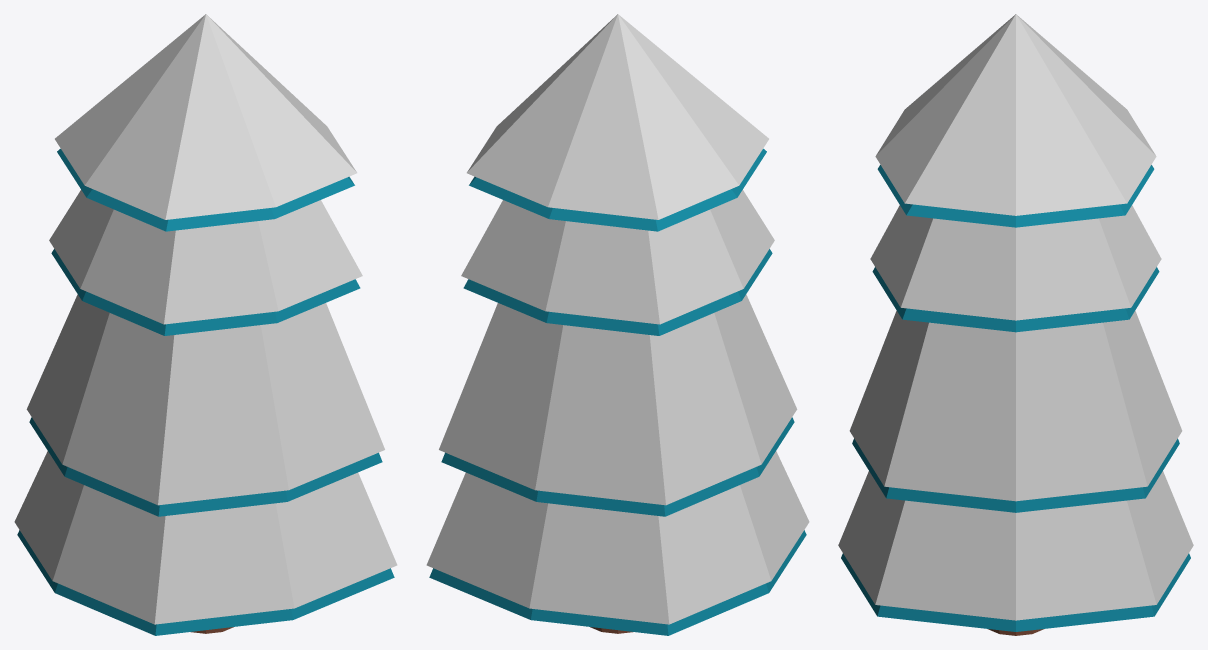
Rendered from Tree_22_winter_blue_mat.fbx.
3 views of the same model, side by side, from view 1: azimuth 30°, elevation 25°; view 2: azimuth 150°, elevation 25°; view 3: azimuth 270°, elevation 25° (orthographic).
Parts seen in each view (by area): view 1: Tree_22_winter_blue_mat; view 2: Tree_22_winter_blue_mat; view 3: Tree_22_winter_blue_mat.
Boxes of the visible parts, x1,y1,x2,y2 form: Tree_22_winter_blue_mat: (14, 14, 397, 635); Tree_22_winter_blue_mat: (426, 14, 809, 635); Tree_22_winter_blue_mat: (838, 14, 1193, 635).
Bounding box in the file's own units: 84.01 × 159 × 84.01.
